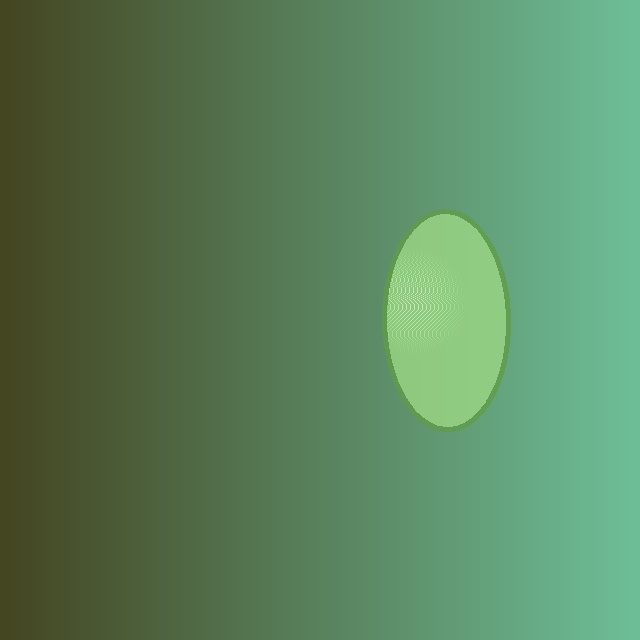lens: (384, 211, 508, 429)
